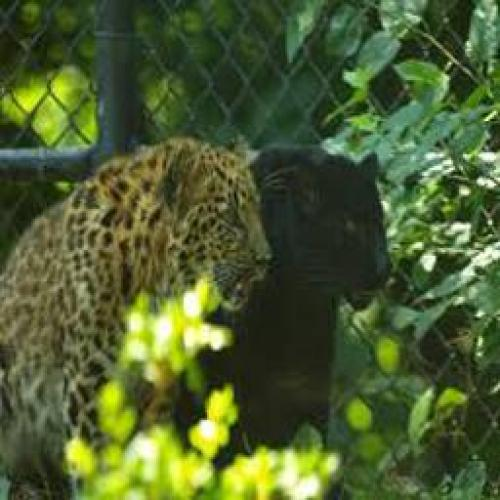amur_leopard-endangered: (0, 139, 274, 453)
